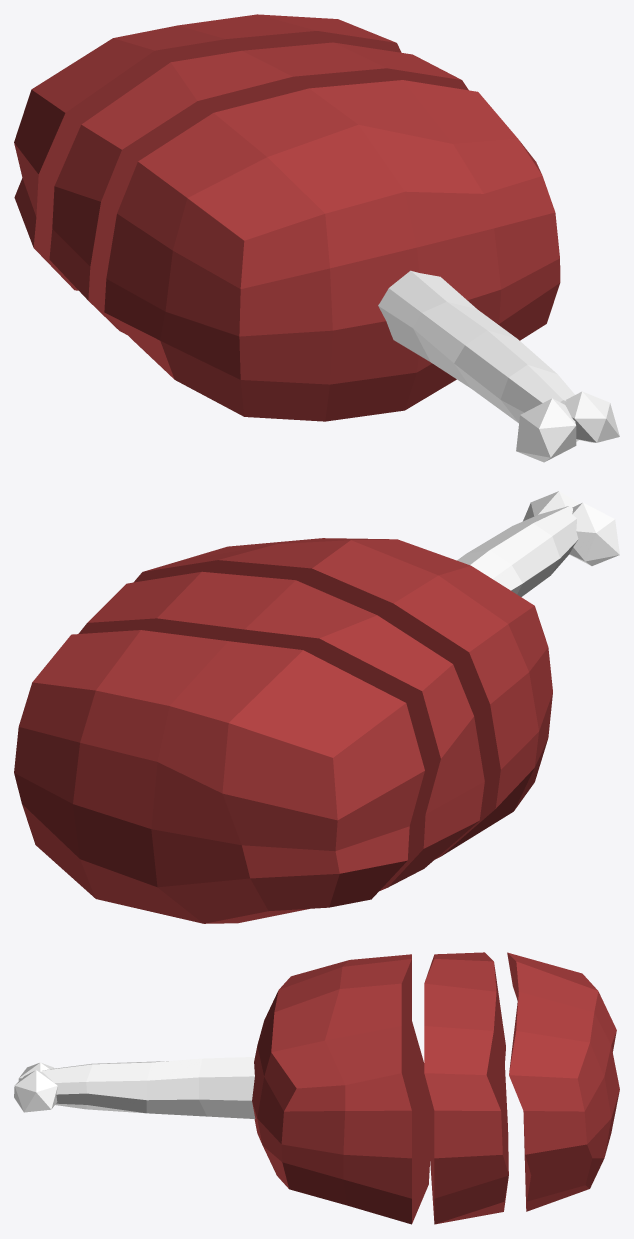
File: goat_leg_chop_2.glb
3 views of the same model, one above another, from view 1: azimuth 30°, elevation 25°; view 2: azimuth 150°, elevation 25°; view 3: azimuth 270°, elevation 25° (orthographic). The views are drawn at different scales.
Visible parts, largest first — view 1: Meat, Meat.002, Meat.001, Icosphere; view 2: Meat.001, Meat, Meat.002, Icosphere; view 3: Meat, Meat.001, Meat.002, Icosphere.
Boxes of the visible parts, x1,y1,x2,y2 form: Meat: (104, 80, 560, 421); Meat.002: (49, 42, 468, 334); Meat.001: (14, 14, 401, 290); Icosphere: (378, 270, 619, 462); Meat.001: (14, 630, 424, 923); Meat: (133, 538, 552, 859); Meat.002: (78, 571, 484, 890); Icosphere: (457, 491, 619, 596); Meat: (252, 954, 429, 1224); Meat.001: (507, 952, 619, 1211); Meat.002: (424, 952, 508, 1224); Icosphere: (14, 1057, 255, 1118).
Size of the model in its own units: 0.108 by 0.0753 by 0.2004.
